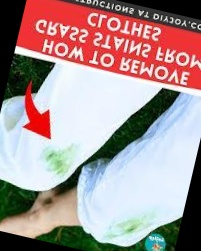earth: (46, 149, 71, 173), (117, 217, 144, 238)
